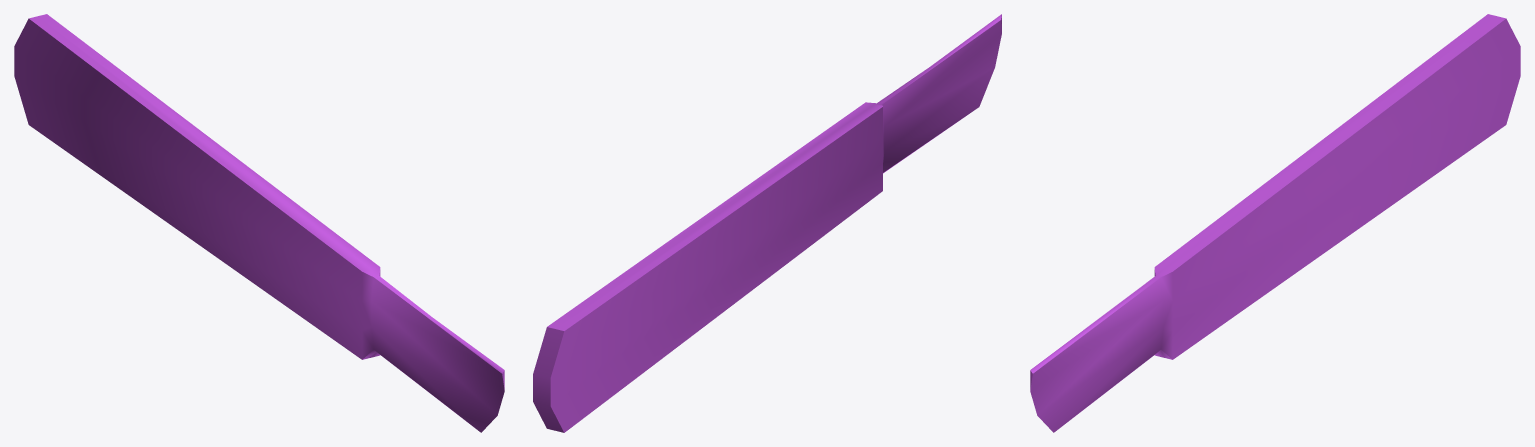
File: Scalpel.obj
3 views of the same model, side by side, from view 1: azimuth 30°, elevation 25°; view 2: azimuth 150°, elevation 25°; view 3: azimuth 330°, elevation 25° (orthographic). The views are drawn at different scales.
Visible parts, largest first — view 1: Box001; view 2: Box001; view 3: Box001.
Boxes of the visible parts, x1=… form: Box001: x1=14, y1=14, x2=504, y2=432; Box001: x1=533, y1=14, x2=1001, y2=432; Box001: x1=1030, y1=14, x2=1520, y2=432.
Bounding box in the file's own units: 2.17 × 12.06 × 98.85.
